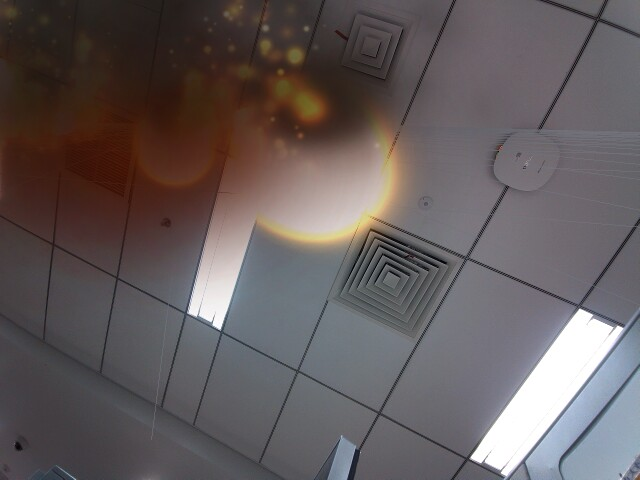fire: (152, 113, 204, 169)
firebig: (260, 108, 373, 214)
